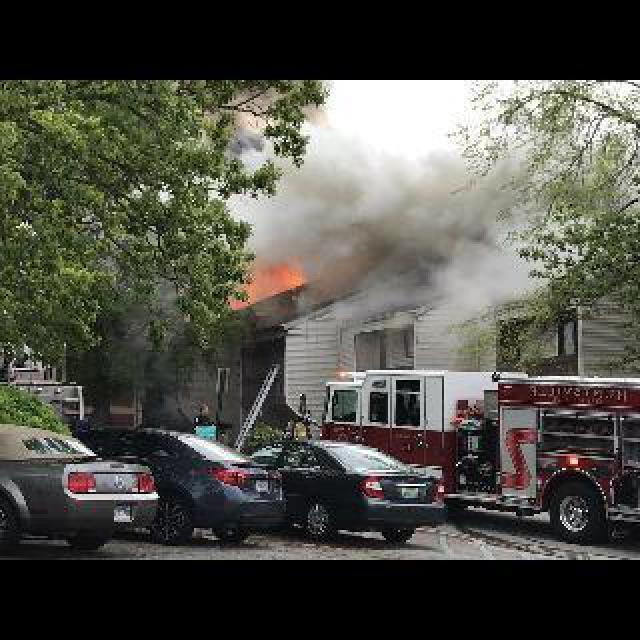Fire: (226, 258, 308, 310)
Smoke: (292, 116, 560, 328)
